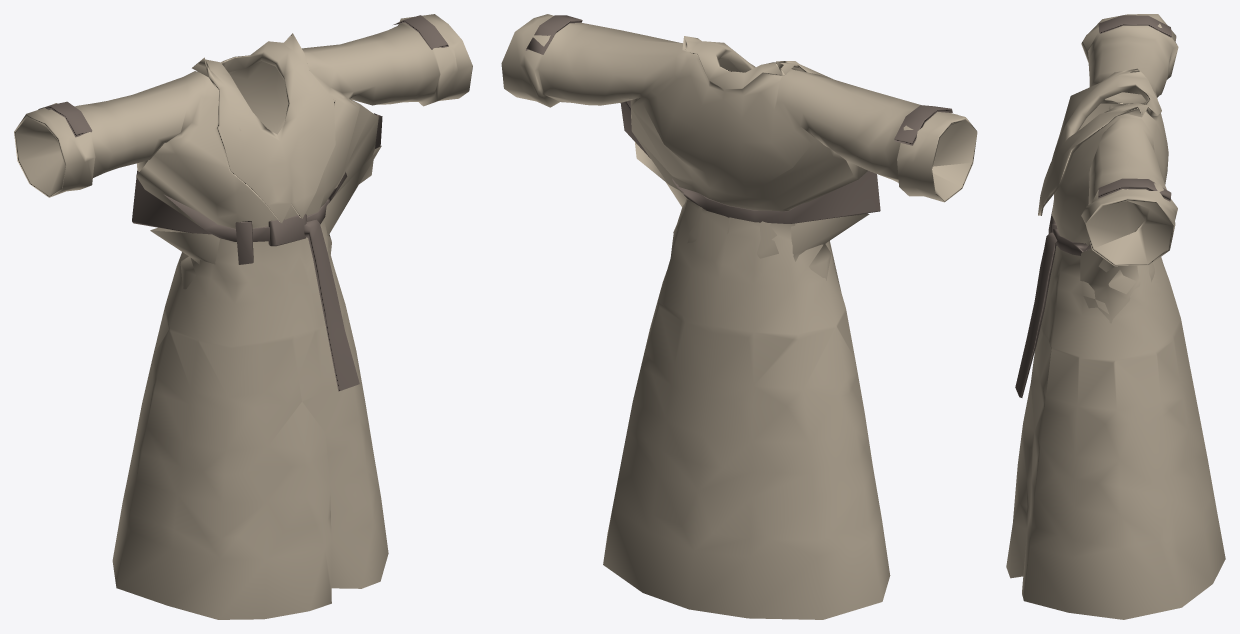
Rendered from belt-coat-only.glb.
3 renders of one model, left to right at view 1: azimuth 30°, elevation 25°; view 2: azimuth 150°, elevation 25°; view 3: azimuth 270°, elevation 25°, orthographic. The views are drawn at different scales.
Parts seen in each view (by area): view 1: Apparel_belt-coat_0, Apparel_belt-coat_1; view 2: Apparel_belt-coat_0, Apparel_belt-coat_1; view 3: Apparel_belt-coat_0, Apparel_belt-coat_1.
Boxes of the visible parts, <box> form: Apparel_belt-coat_0: <box>14,14,472,619</box>; Apparel_belt-coat_1: <box>38,15,448,391</box>; Apparel_belt-coat_0: <box>501,14,977,619</box>; Apparel_belt-coat_1: <box>525,15,952,223</box>; Apparel_belt-coat_0: <box>1006,14,1225,619</box>; Apparel_belt-coat_1: <box>1015,15,1171,397</box>.
Bounding box in the file's own units: 2.74 × 3.25 × 1.33.
